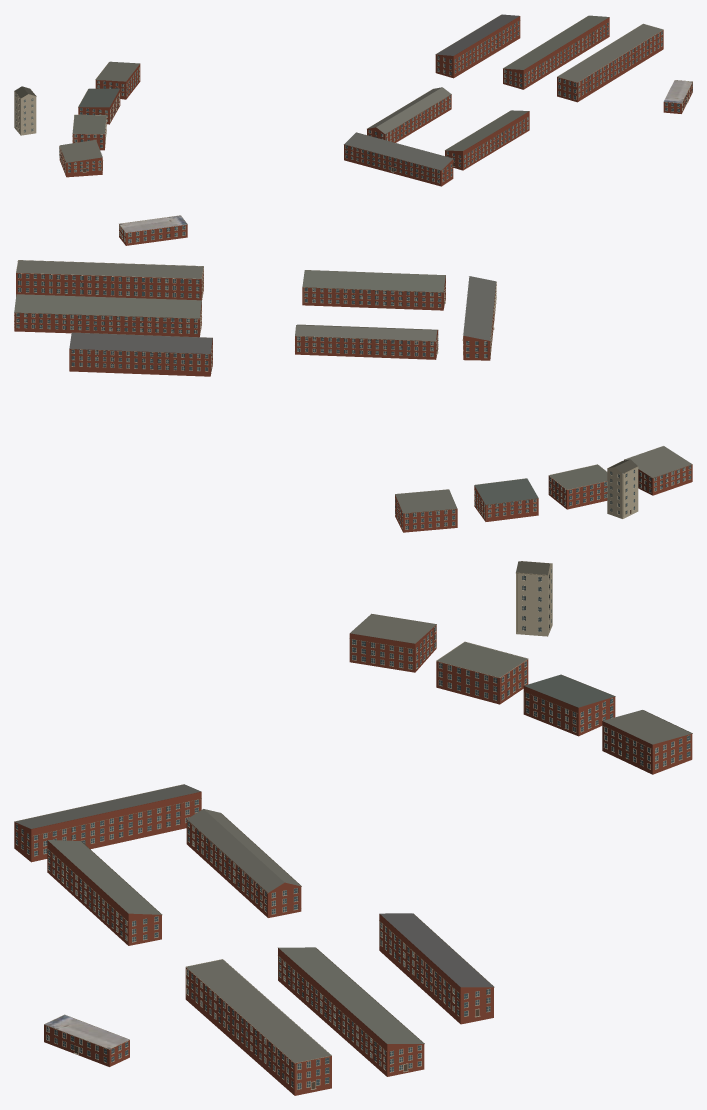
3 views of the same model, one above another, from view 1: azimuth 30°, elevation 25°; view 2: azimuth 150°, elevation 25°; view 3: azimuth 270°, elevation 25° (orthographic). The views are drawn at different scales.
Visible parts, largest first — view 1: -4_2_598391665_2, -4_2_-2339_20, -4_2_598393337_14; view 2: -4_2_598391665_2, -4_2_-2339_20, -4_2_598393337_14; view 3: -4_2_598391665_2, -4_2_-2339_20, -4_2_598393337_14.
Part boxes in pixels (<box>): -4_2_598391665_2: <box>14,14,692,186</box>; -4_2_-2339_20: <box>14,91,36,135</box>; -4_2_598393337_14: <box>664,80,692,103</box>; -4_2_598391665_2: <box>14,215,692,532</box>; -4_2_-2339_20: <box>607,466,638,518</box>; -4_2_598393337_14: <box>119,215,186,232</box>; -4_2_598391665_2: <box>14,561,692,1095</box>; -4_2_-2339_20: <box>516,563,552,636</box>; -4_2_598393337_14: <box>45,1015,128,1048</box>.
Bounding box in the file's own units: 403 × 36.31 × 248.
12 materials, 1 textured.
